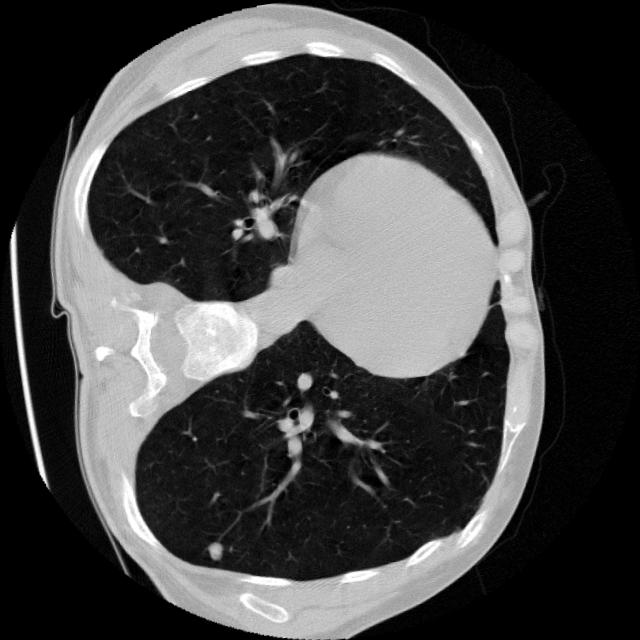nodule: (195, 531, 238, 574)
